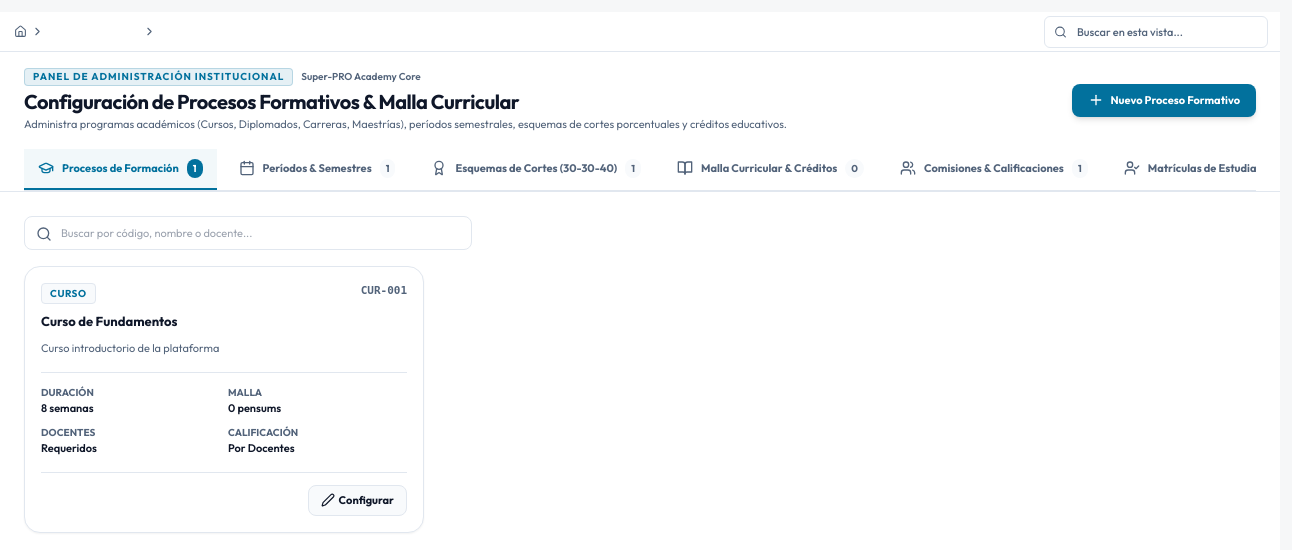
Test: AcademyAdminConsole › filtra programas por búsqueda y muestra estado vacío de cero coincidencias
The image size is (1292, 550).
Check: the heading "Curso de Fundamentos" is shown, box [41,313,178,329]
Type "zzz-sin-resultados" into the field with placeholder "Buscar por código, nombre o docente..." at [248, 233], box [24,216,472,250]
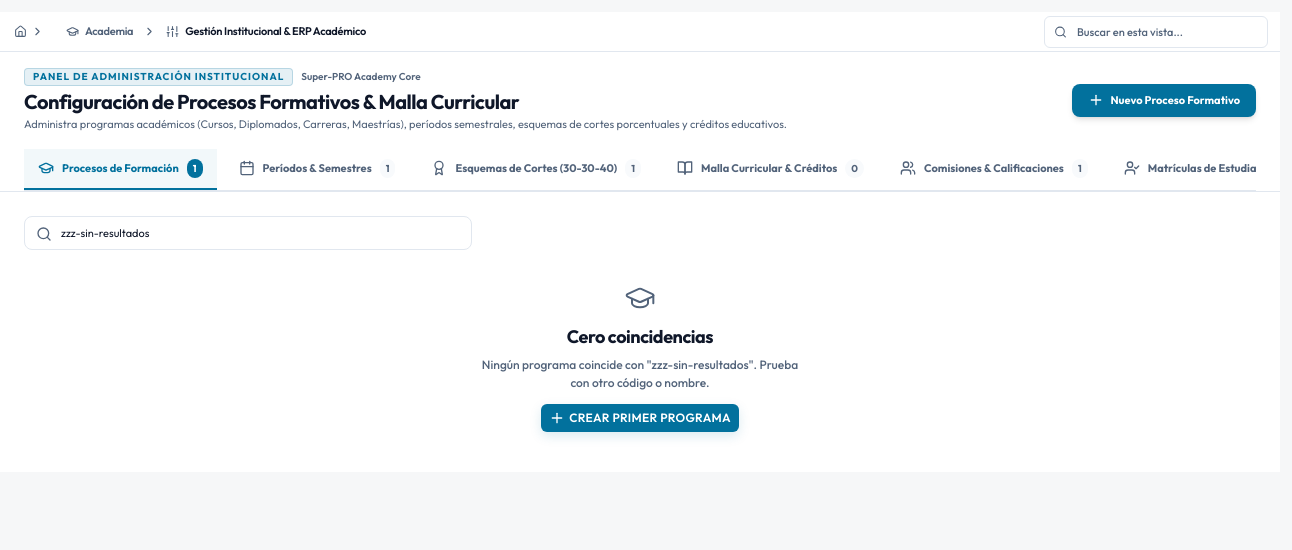
Check: the heading "Cero coincidencias" is shown, box [567,325,713,348]
Check: the heading "Curso de Fundamentos" is gone
